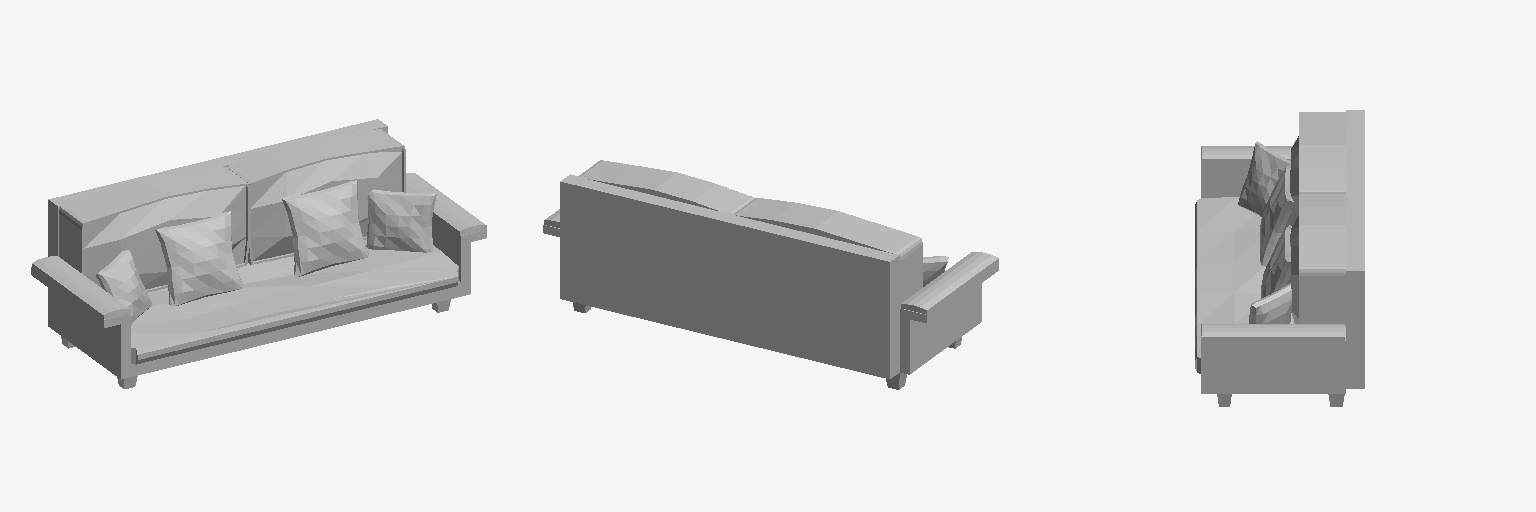
The model's file is Sofa_grouped_Fixed.obj.
The picture shows the model from 3 angles: view 1: azimuth 30°, elevation 25°; view 2: azimuth 150°, elevation 25°; view 3: azimuth 270°, elevation 25°; orthographic projection.
Parts seen in each view (by area): view 1: Kussen_bodem_bank, Kussen_1, Bank_frame, kussen_2, Kussen_los4, Kussen_los, Kussen_los3, Armleuning_bank, Kussen_los_2, Armleuning_bank_2; view 2: Bank_frame, Kussen_1, kussen_2, Armleuning_bank, Kussen_los_2; view 3: Bank_frame, Kussen_bodem_bank, kussen_2, Kussen_1, Armleuning_bank_2, Kussen_los_2, Kussen_los, Kussen_los4, Kussen_los3, Armleuning_bank.
Part boxes in pixels (bbox=[...]): Kussen_bodem_bank: bbox=[131, 240, 458, 364]; Kussen_1: bbox=[59, 166, 249, 292]; Bank_frame: bbox=[31, 119, 486, 388]; kussen_2: bbox=[227, 129, 405, 264]; Kussen_los4: bbox=[282, 180, 368, 276]; Kussen_los: bbox=[155, 211, 243, 305]; Kussen_los3: bbox=[366, 189, 436, 252]; Armleuning_bank: bbox=[32, 256, 129, 319]; Kussen_los_2: bbox=[96, 250, 151, 324]; Armleuning_bank_2: bbox=[406, 173, 486, 235]; Bank_frame: bbox=[543, 174, 998, 389]; Kussen_1: bbox=[734, 198, 922, 307]; kussen_2: bbox=[579, 160, 754, 213]; Armleuning_bank: bbox=[901, 252, 998, 314]; Kussen_los_2: bbox=[923, 256, 948, 286]; Bank_frame: bbox=[1201, 110, 1364, 406]; Kussen_bodem_bank: bbox=[1195, 197, 1292, 373]; kussen_2: bbox=[1290, 194, 1346, 325]; Kussen_1: bbox=[1290, 112, 1346, 225]; Armleuning_bank_2: bbox=[1201, 324, 1345, 340]; Kussen_los_2: bbox=[1238, 141, 1290, 216]; Kussen_los: bbox=[1260, 164, 1293, 266]; Kussen_los4: bbox=[1261, 225, 1291, 298]; Kussen_los3: bbox=[1249, 283, 1291, 323]; Armleuning_bank: bbox=[1201, 146, 1292, 163].
Size of the model in its own units: 56.73 by 20.25 by 21.9.